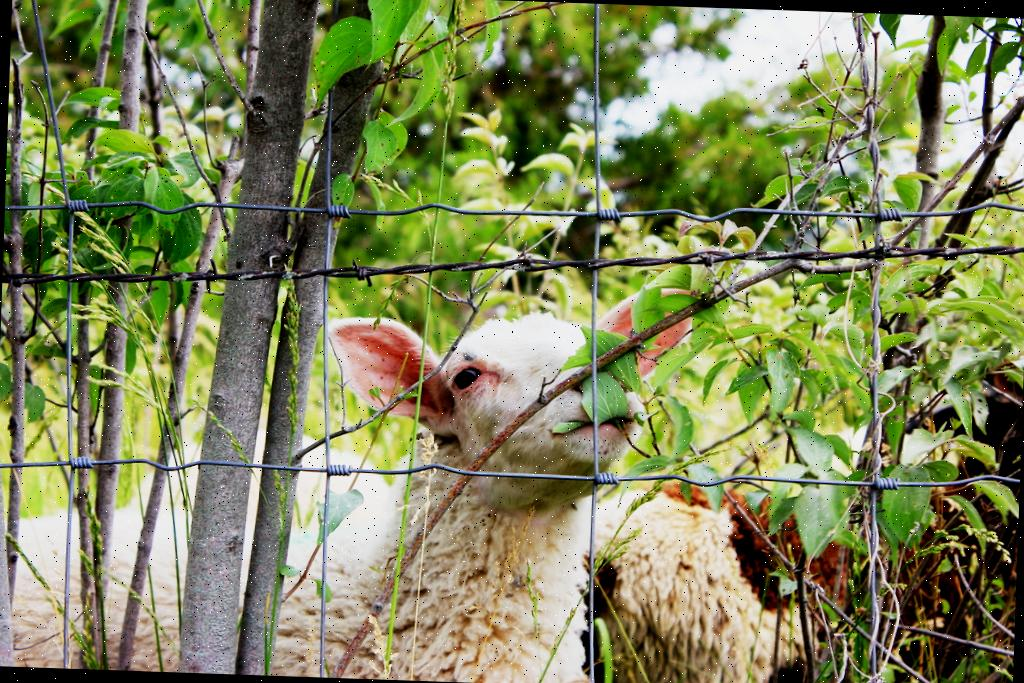Sheep: (0, 293, 675, 683)
